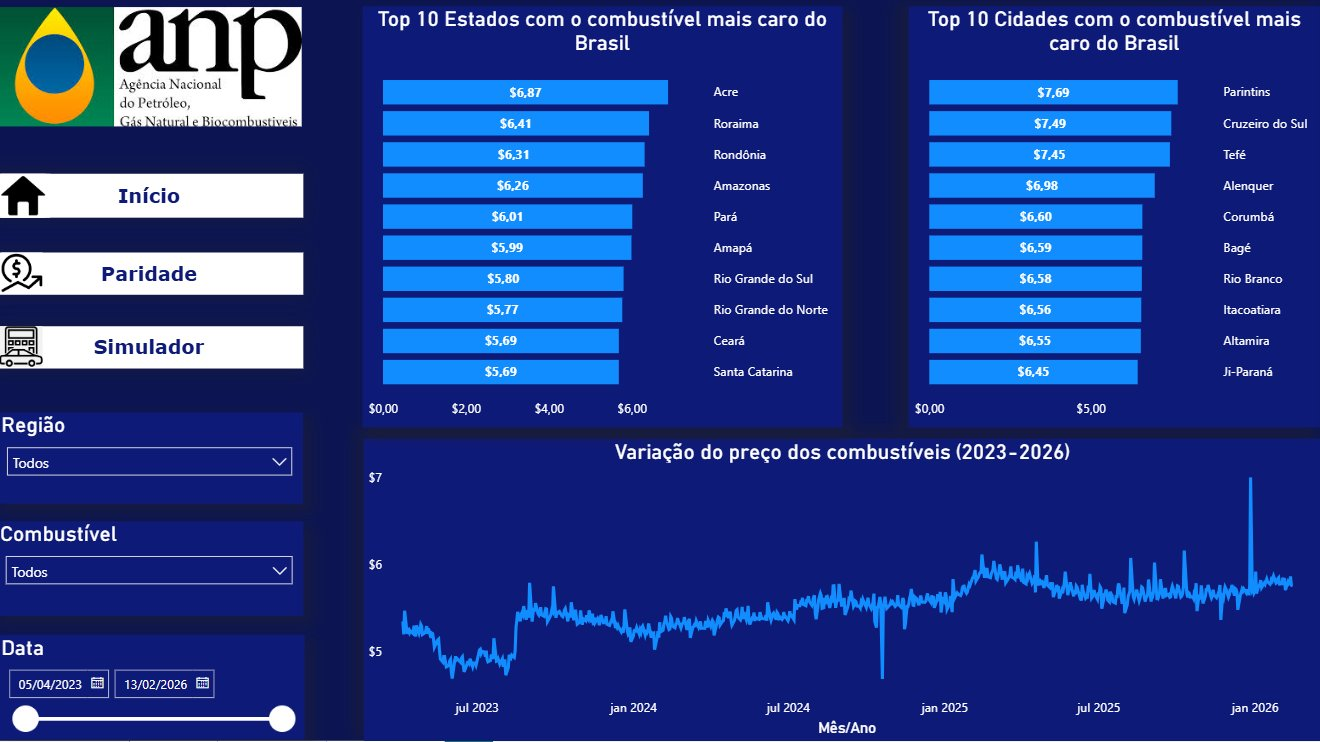

What the dashboard file says about the page in this screenshot:
{"tool":"powerbi","page":{"name":"Início","canvas":[1280,720],"ordinal":0},"visuals":[{"type":"shape","box":[1.4,0,1278.9,719.8],"z":0},{"type":"lineChart","title":"Variação do preço dos combustíveis (2023-2026)","fields":{"Y":["Avg(Consulta1.preco_venda)"],"Category":["Consulta1.datacoleta.Variation.Hierarquia de datas.Ano","Consulta1.datacoleta.Variation.Hierarquia de datas.Trimestre","Consulta1.datacoleta.Variation.Hierarquia de datas.Mês","Consulta1.datacoleta.Variation.Hierarquia de datas.Dia"]},"box":[356.5,428.1,923.5,291.9],"z":1000},{"type":"barChart","title":"Top 10 Estados com o combustível mais caro do Brasil","fields":{"Category":["Consulta1.sigla_uf_nome"],"Y":["Avg(Consulta1.preco_venda)"]},"box":[355.2,10.8,463.2,406.5],"z":2000},{"type":"slicer","title":"Combustível","fields":{"Values":["Consulta1.produto"]},"box":[0,507.5,297.2,91.1],"z":3000},{"type":"slicer","title":"Data","fields":{"Values":["Consulta1.datacoleta"]},"box":[1.4,618.3,297.2,100.9],"z":4000},{"type":"barChart","title":"Top 10 Cidades com o combustível mais caro do Brasil","fields":{"Y":["Avg(Consulta1.preco_venda)"],"Category":["Consulta1.id_municipio_nome"]},"box":[881.9,10.8,397,406.5],"z":5000},{"type":"slicer","title":"Região","fields":{"Values":["Tabela Geral.regiao"]},"box":[1.4,402.4,295.8,88.3],"z":6000},{"type":"actionButton","box":[0,320,297.5,40.7],"z":7000},{"type":"actionButton","box":[0,248.4,297.5,40.7],"z":8000},{"type":"actionButton","box":[0,172.6,297.5,42.1],"z":9000},{"type":"image","box":[1.4,172.6,51.9,42.1],"z":10000},{"type":"image","box":[0,248.4,51.9,39.3],"z":11000},{"type":"image","box":[1.4,320,47.7,39.3],"z":12000},{"type":"image","box":[1.2,10.9,294.4,117],"z":13000}]}

Visuals, with their boxes on the page's 1280x720 design canvas (x1, y1, x2, y2). These are canvas units, not pixel positions in the 1320x742 screenshot, which may show the page scaled, cropped or inside an application window:
shape: {"left": 1, "top": 0, "right": 1280, "bottom": 720}
"Variação do preço dos combustíveis (2023-2026)" lineChart: {"left": 356, "top": 428, "right": 1280, "bottom": 720}
"Top 10 Estados com o combustível mais caro do Brasil" barChart: {"left": 355, "top": 11, "right": 818, "bottom": 417}
"Combustível" slicer: {"left": 0, "top": 508, "right": 297, "bottom": 599}
"Data" slicer: {"left": 1, "top": 618, "right": 299, "bottom": 719}
"Top 10 Cidades com o combustível mais caro do Brasil" barChart: {"left": 882, "top": 11, "right": 1279, "bottom": 417}
"Região" slicer: {"left": 1, "top": 402, "right": 297, "bottom": 491}
actionButton: {"left": 0, "top": 320, "right": 298, "bottom": 361}
actionButton: {"left": 0, "top": 248, "right": 298, "bottom": 289}
actionButton: {"left": 0, "top": 173, "right": 298, "bottom": 215}
image: {"left": 1, "top": 173, "right": 53, "bottom": 215}
image: {"left": 0, "top": 248, "right": 52, "bottom": 288}
image: {"left": 1, "top": 320, "right": 49, "bottom": 359}
image: {"left": 1, "top": 11, "right": 296, "bottom": 128}
